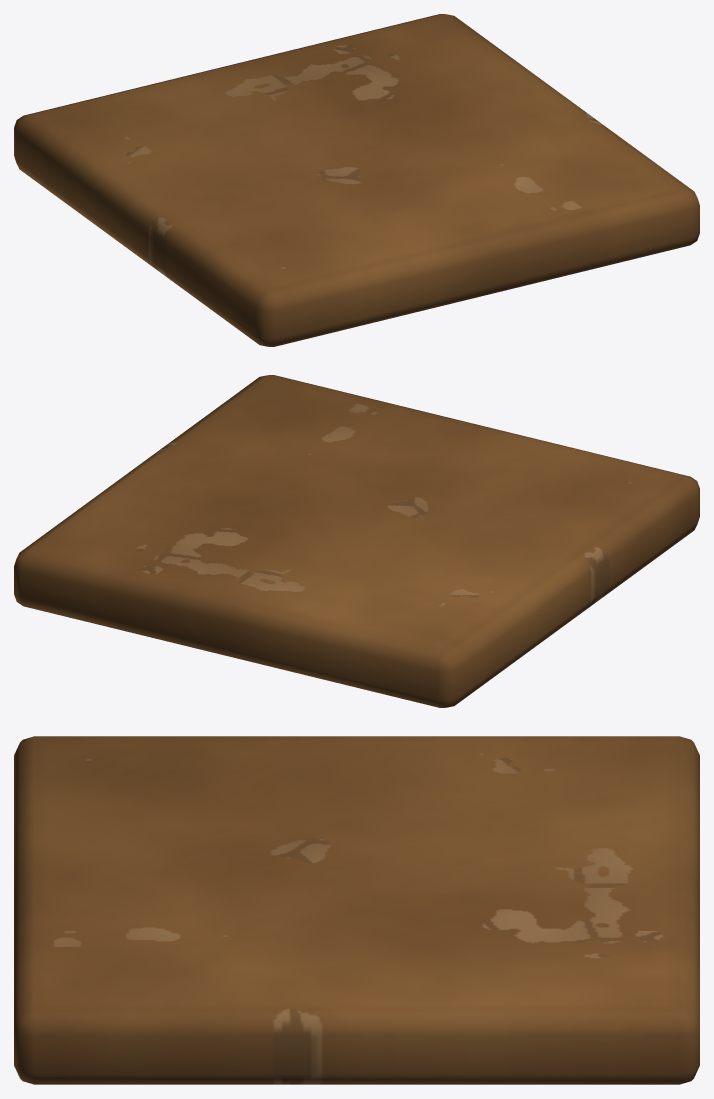
The model's file is floor.glb.
The picture shows the model from 3 angles, top to bottom: view 1: azimuth 30°, elevation 25°; view 2: azimuth 150°, elevation 25°; view 3: azimuth 270°, elevation 25°; orthographic projection. The views are drawn at different scales.
Parts seen in each view (by area): view 1: floor; view 2: floor; view 3: floor.
Part boxes in pixels (<box>): floor: <box>14,14,699,346</box>; floor: <box>14,375,699,707</box>; floor: <box>14,736,699,1084</box>.
Bounding box in the file's own units: 1 × 0.12 × 1.
1 material, 1 textured.
